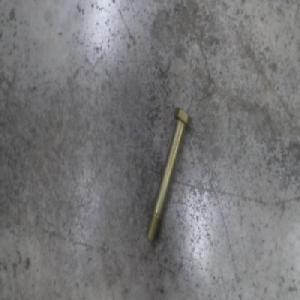Bolt: (145, 106, 191, 244)
